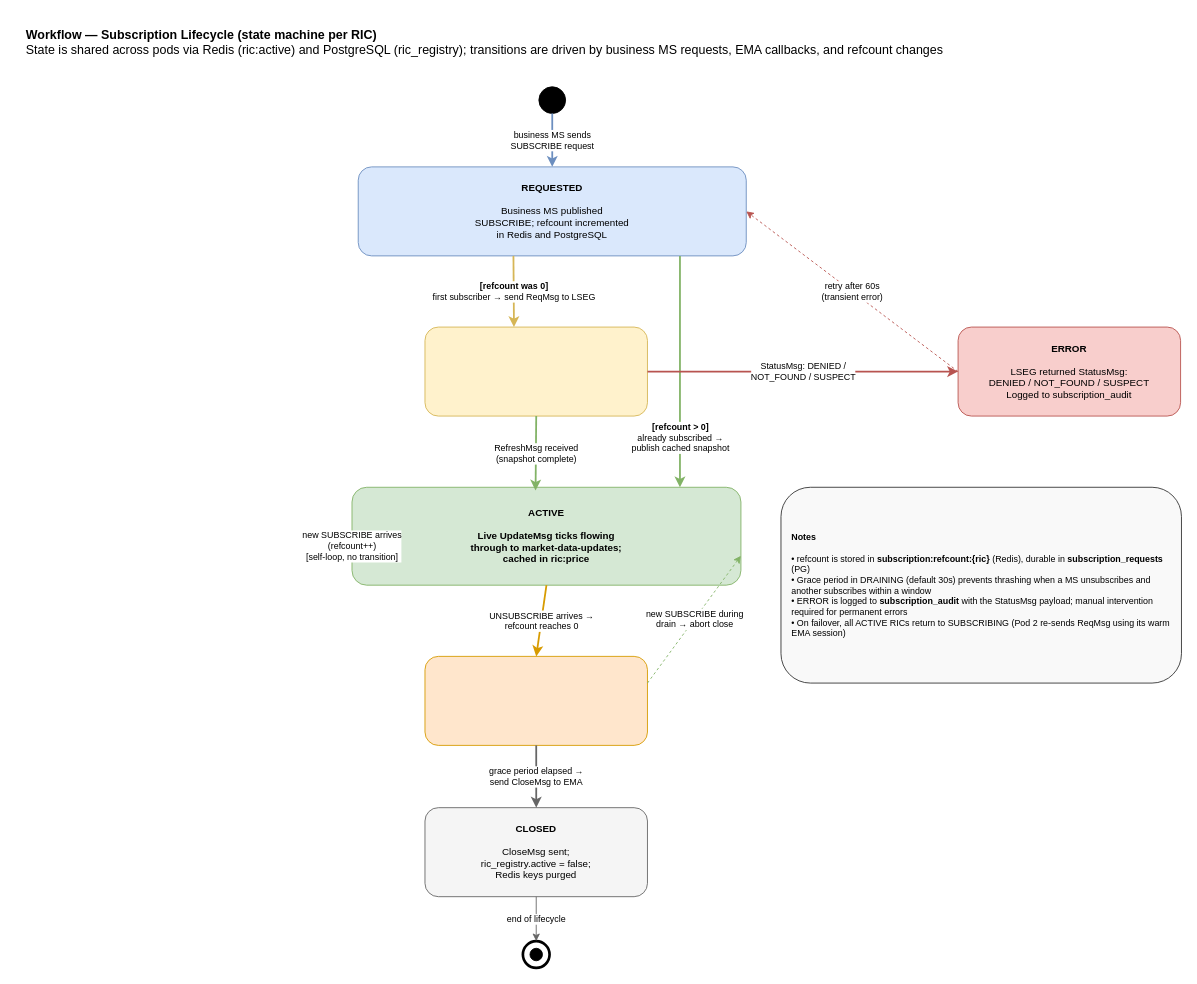
Image size: 1197x984. Some labels were removed from this diagram. The shapes that lost their labels are listed below. From the top down, each one's centre as x and y in pixels, then its label:
At point (535, 371): "SUBSCRIBING ReqMsg sent via EMA; awaiting RefreshMsg snapshot".
At point (535, 700): "DRAINING refcount reached 0; awaiting grace period (default 30s) before close".
